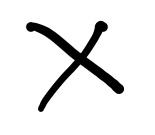mult: (25, 18, 123, 111)
